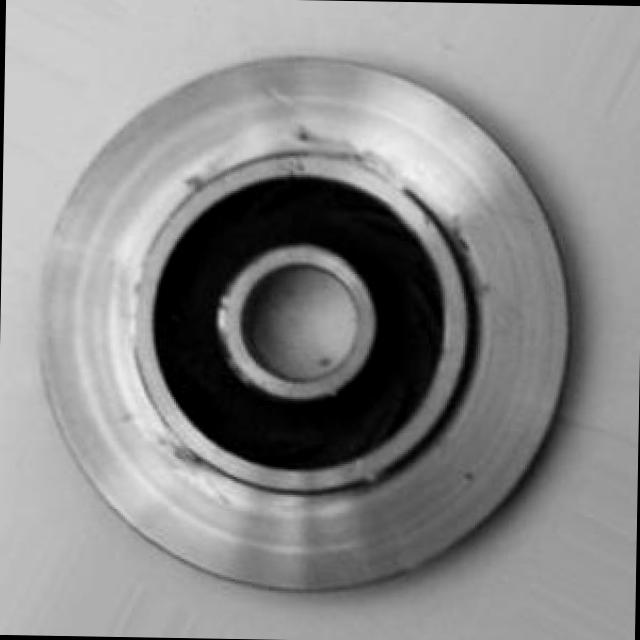Defect: (298, 116, 417, 192)
